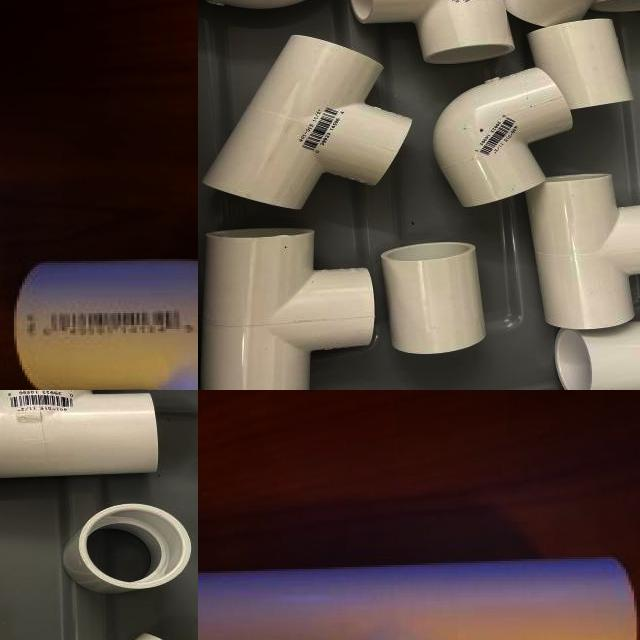L Joint: (12, 259, 198, 390), (433, 68, 574, 211), (351, 0, 515, 67)
T Joint: (202, 36, 413, 213), (198, 556, 640, 640), (199, 227, 377, 390), (535, 174, 640, 329)
